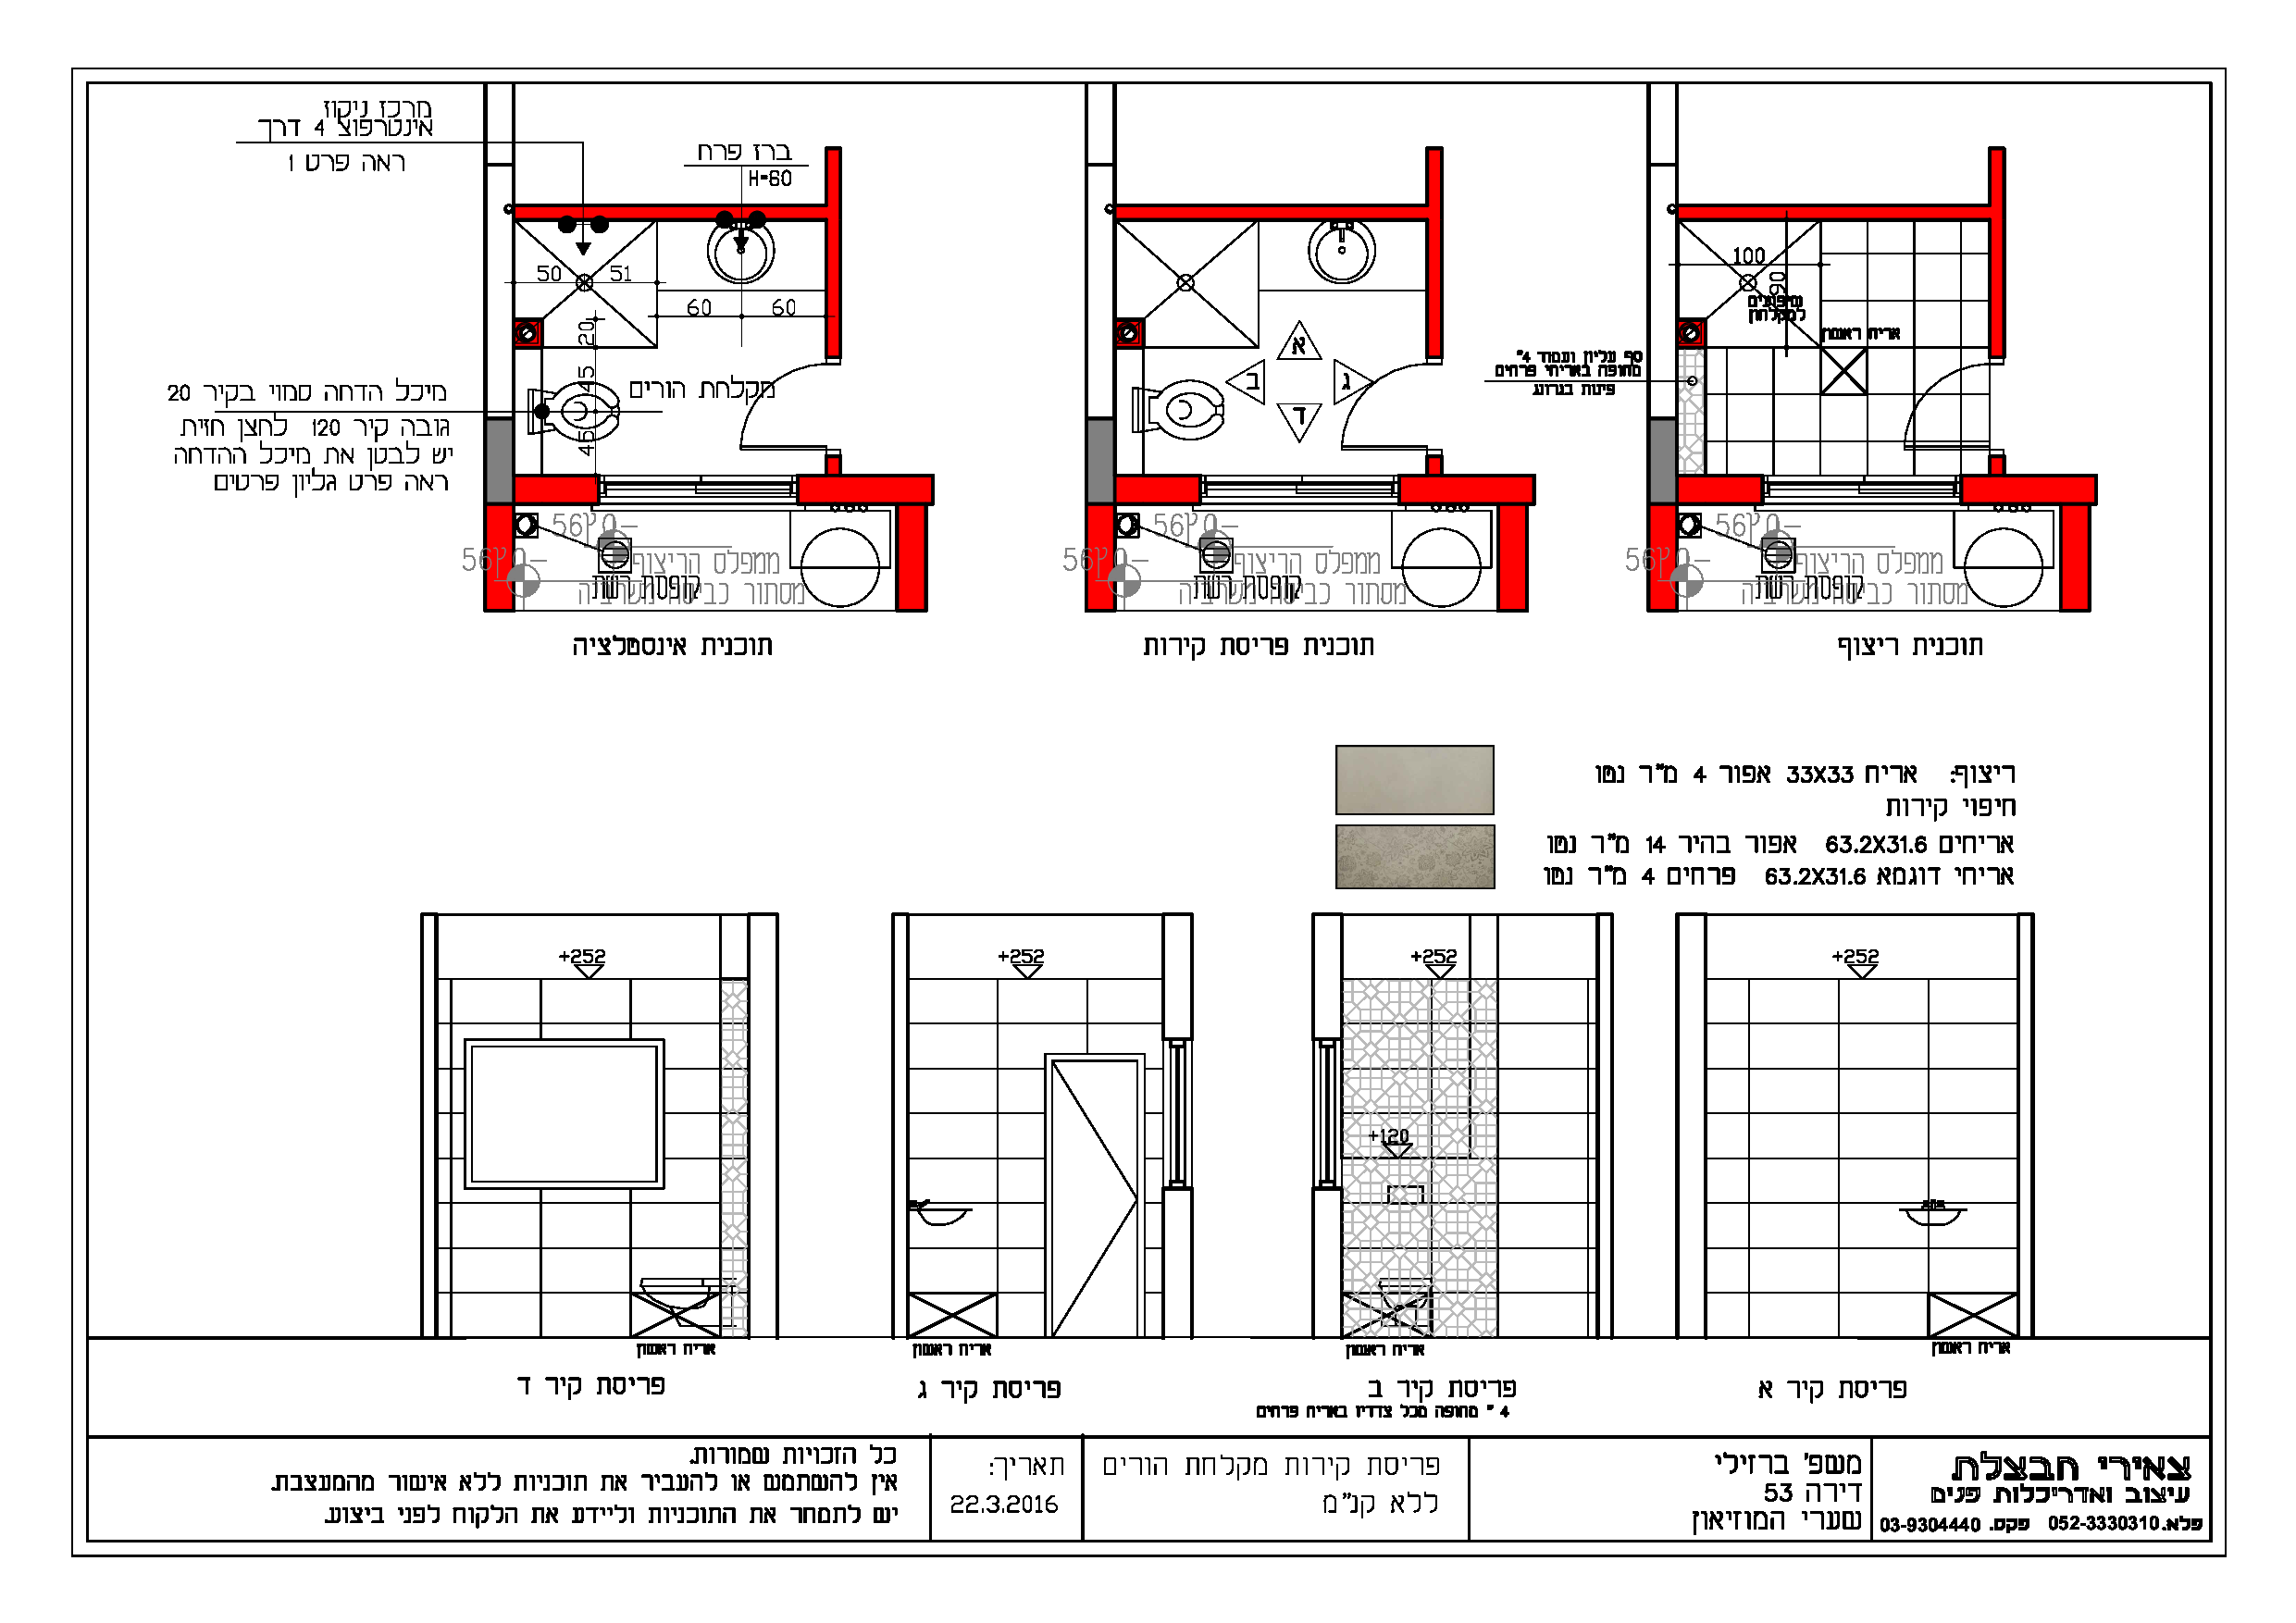door: (1903, 353, 1994, 472), (733, 355, 817, 457), (1339, 360, 1421, 457)
rd: (49, 1389, 2250, 1612)
wall: (1426, 149, 1444, 355), (826, 153, 841, 357), (1121, 206, 1437, 214), (520, 206, 836, 214), (1686, 207, 2001, 216), (1966, 480, 2097, 499), (1400, 478, 1530, 497), (1500, 508, 1523, 606), (2066, 508, 2083, 606), (1992, 153, 2001, 341), (490, 422, 509, 495), (1091, 423, 1108, 495)
window: (592, 460, 803, 522), (1755, 465, 1969, 516), (1193, 465, 1402, 513), (1298, 1033, 1351, 1212), (1156, 1028, 1202, 1203)
